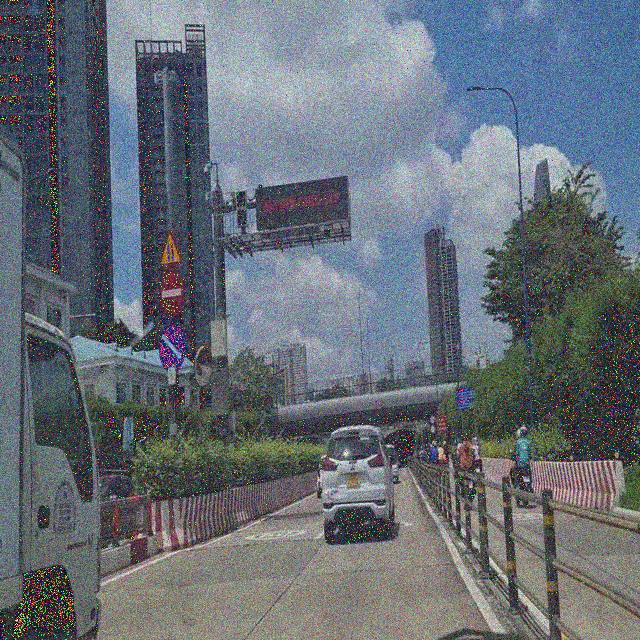Cấm đi ngược chiều: (156, 269, 188, 317)
Hướng phải đi vòng sang phải: (158, 318, 185, 372)
Khác: (454, 381, 479, 410)
Đường hẹp: (154, 218, 185, 269)
